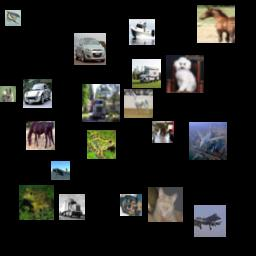airplane: (189, 122, 227, 160), (194, 205, 226, 237), (51, 161, 70, 180), (5, 10, 21, 26)
automobile: (74, 33, 106, 65), (23, 79, 52, 108)
cat: (148, 187, 183, 222), (152, 121, 174, 143)
dog: (166, 55, 204, 93), (120, 194, 142, 216), (0, 86, 16, 102)
frog: (19, 185, 54, 220), (87, 130, 116, 159)
ship: (129, 19, 155, 45)
truck: (82, 84, 120, 122), (132, 59, 161, 88), (59, 194, 85, 220)
